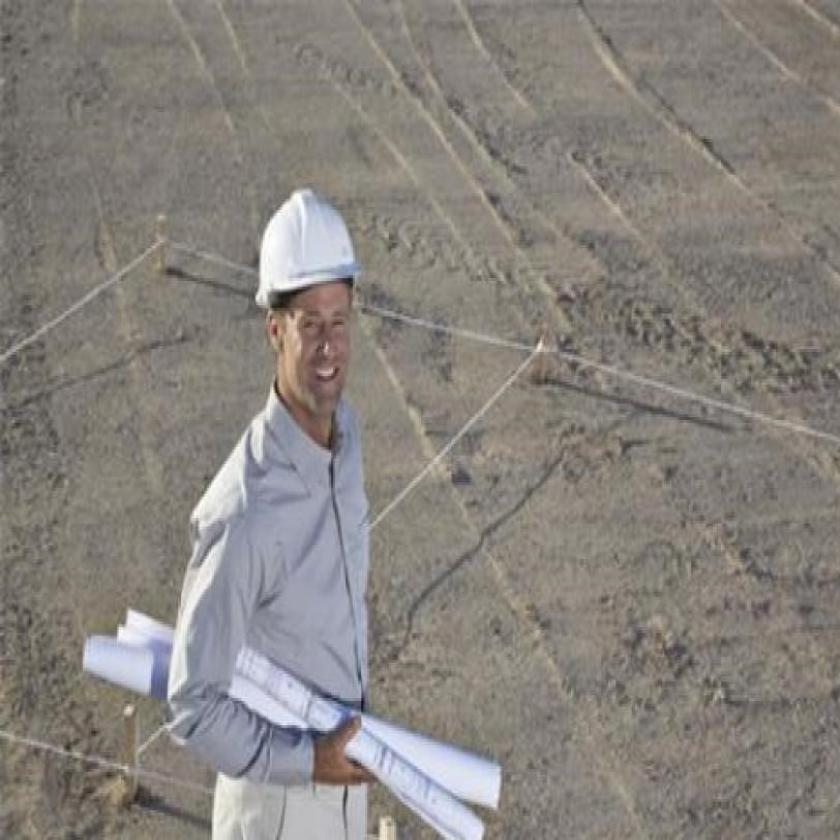Con_casco: (254, 185, 368, 434)
